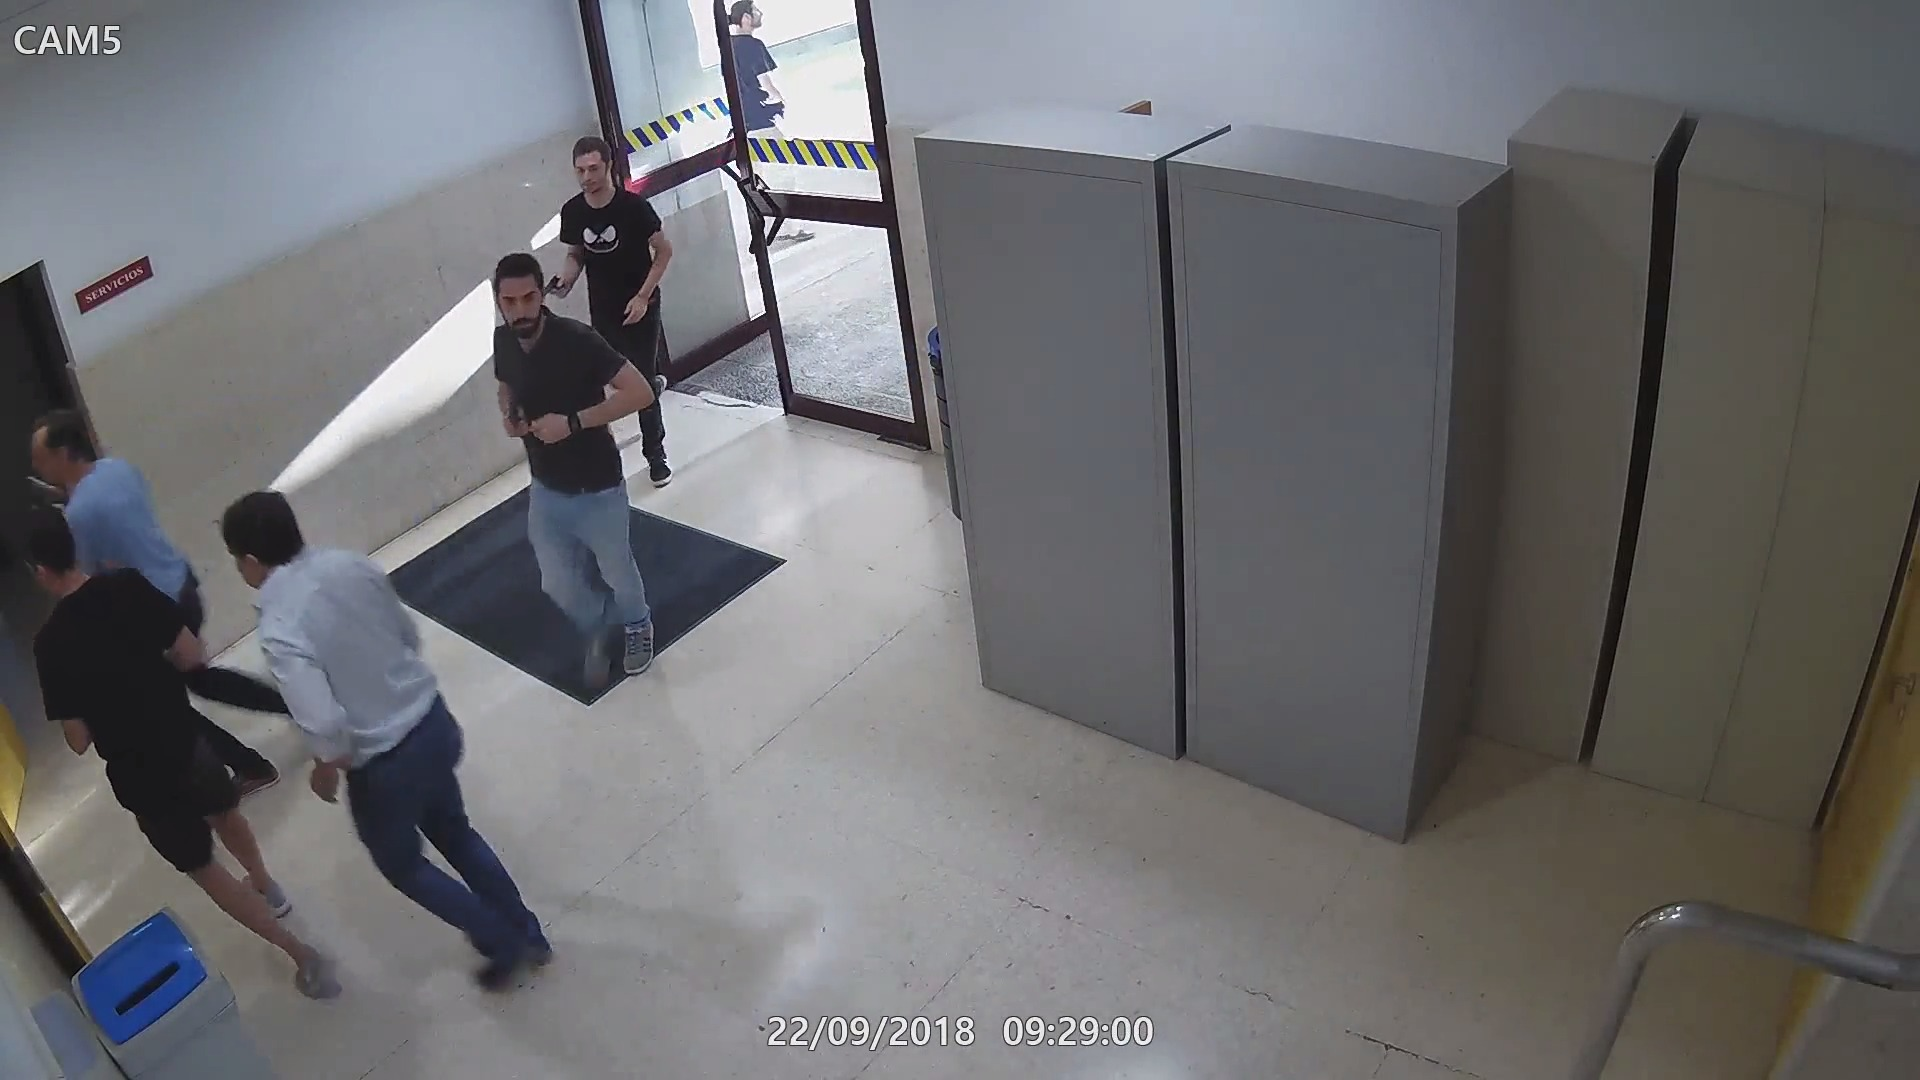Handgun: (539, 265, 579, 305), (502, 397, 531, 438)
